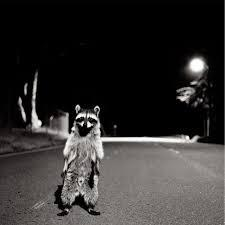raccoon: (41, 93, 107, 223)
